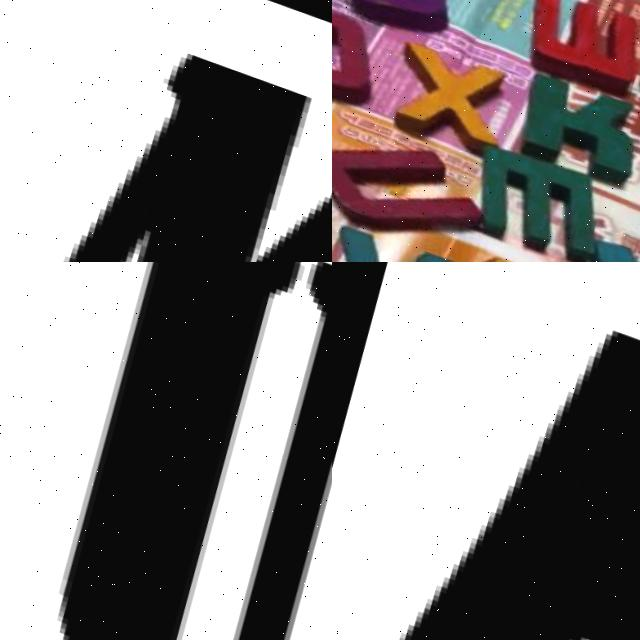F: (332, 262, 640, 640)
G: (332, 0, 476, 40)
J: (575, 176, 640, 262)
K: (497, 57, 640, 185)
M: (0, 0, 332, 262), (447, 128, 612, 262)
O: (332, 0, 391, 114)
U: (0, 262, 332, 640), (332, 113, 492, 257)
V: (332, 214, 453, 262)
W: (505, 0, 640, 96)
X: (375, 30, 531, 163)
